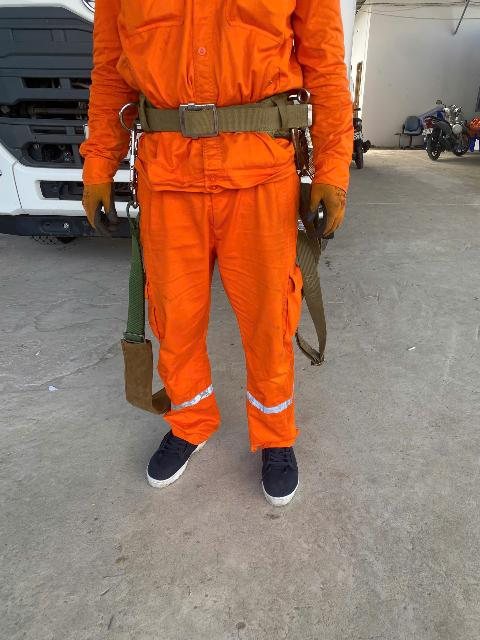gloves: (59, 171, 144, 259), (295, 176, 358, 233)
harness: (112, 73, 327, 163)
shoes: (245, 433, 313, 508), (140, 429, 205, 496)
